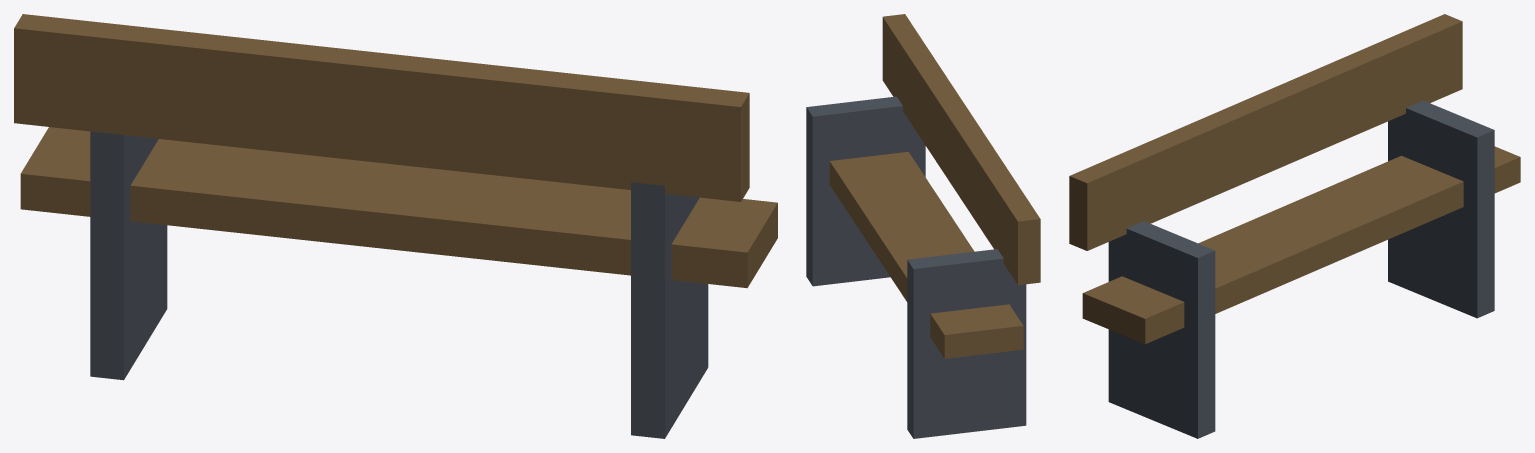
Rendered from cell--585_-45.glb.
The picture shows the model from 3 angles, left to right: view 1: azimuth 30°, elevation 25°; view 2: azimuth 150°, elevation 25°; view 3: azimuth 270°, elevation 25°; orthographic projection. The views are drawn at different scales.
Visible parts, largest first — view 1: cell--585_-45; view 2: cell--585_-45; view 3: cell--585_-45.
Part boxes in pixels (x1=…): cell--585_-45: x1=14, y1=14, x2=777, y2=438; cell--585_-45: x1=806, y1=14, x2=1040, y2=438; cell--585_-45: x1=1069, y1=14, x2=1520, y2=438.
Size of the model in its own units: 0.7334 by 0.43 by 0.7232.
